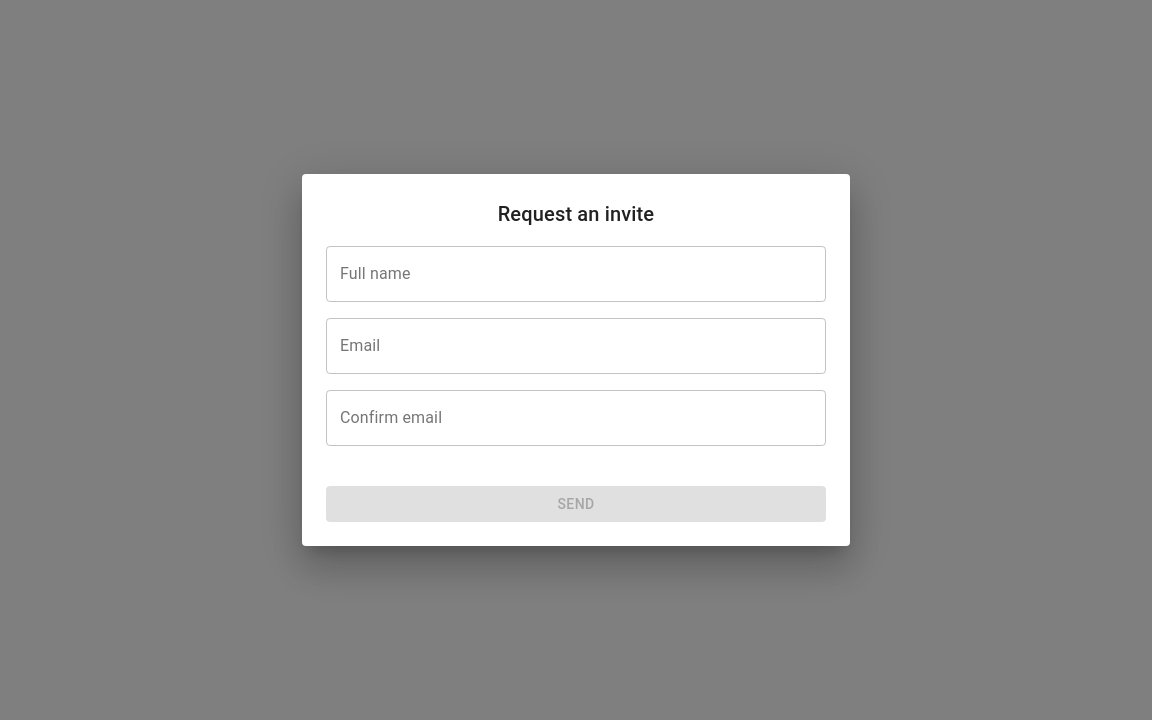
Scenario: Validates form inputs
The width and height of the screenshot is (1152, 720).
In the field labelled "Full name": (576, 274) x1=326 y1=246 x2=826 y2=302, type "a"
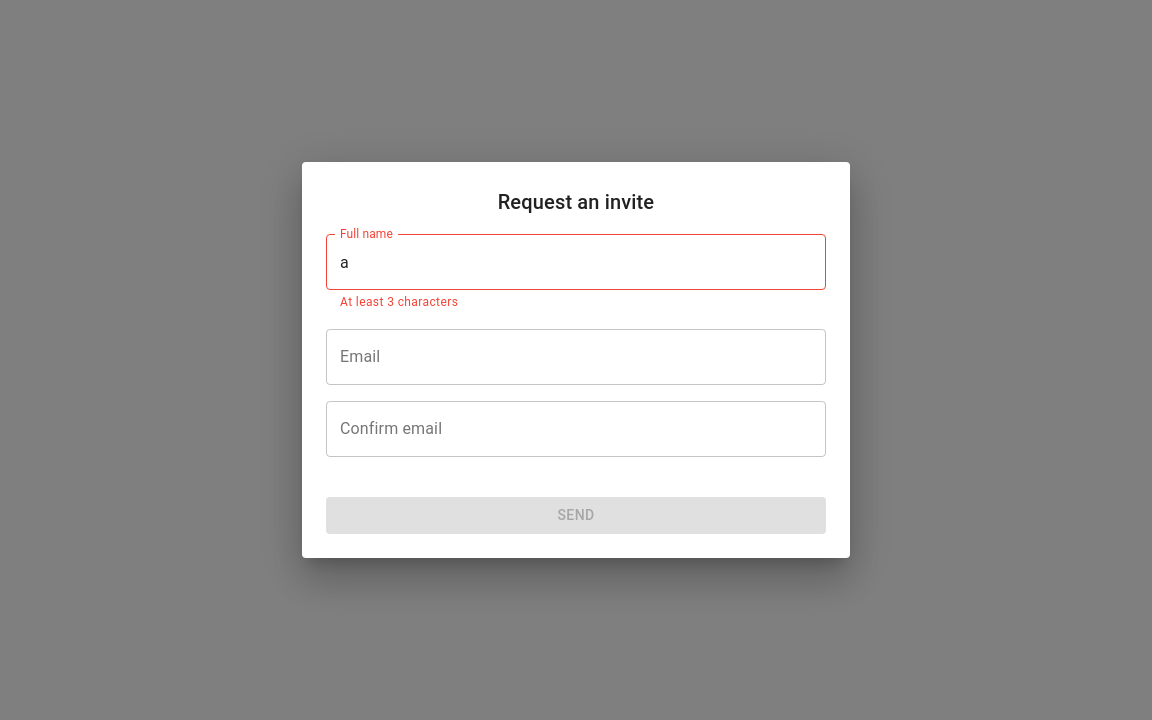
Now the element with test id "full-name-input" shows "At least 3 characters", box x1=340 y1=295 x2=458 y2=309
Replace the text in the field labelled "Full name" with "aaa": (576, 262) x1=326 y1=234 x2=826 y2=290
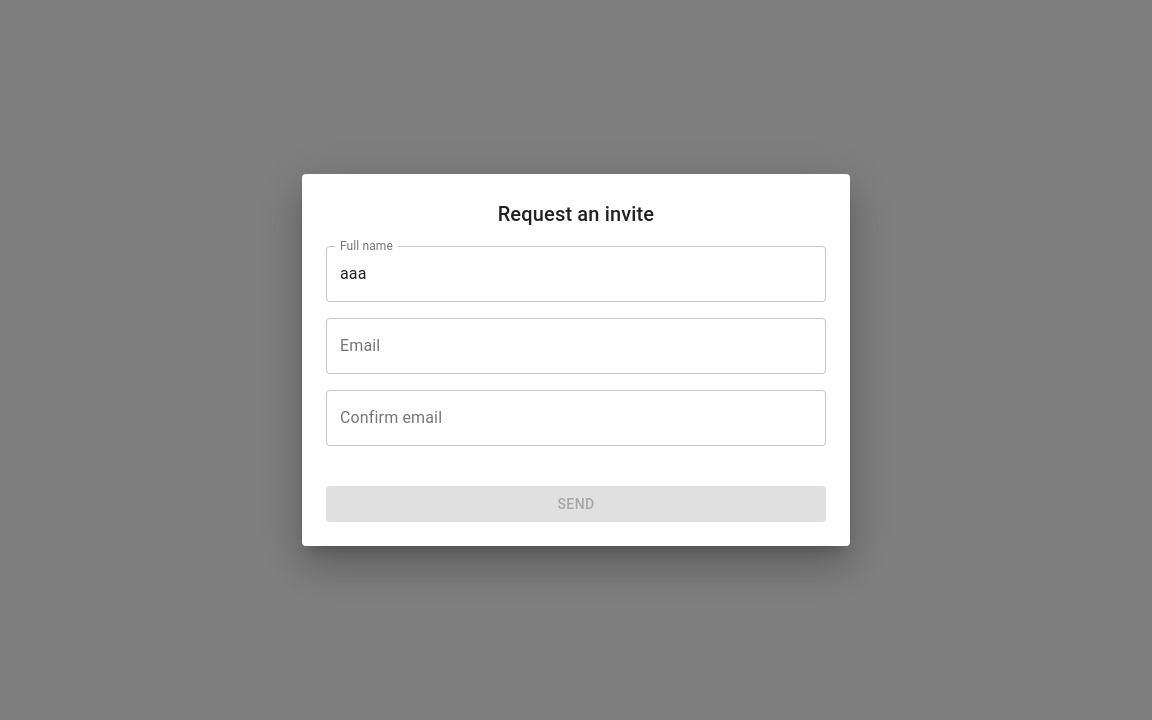
Now the element with test id "full-name-input" no longer shows "At least 3 characters", box x1=326 y1=246 x2=826 y2=302
In the field labelled "Email": (576, 346) x1=326 y1=318 x2=826 y2=374, type "test"
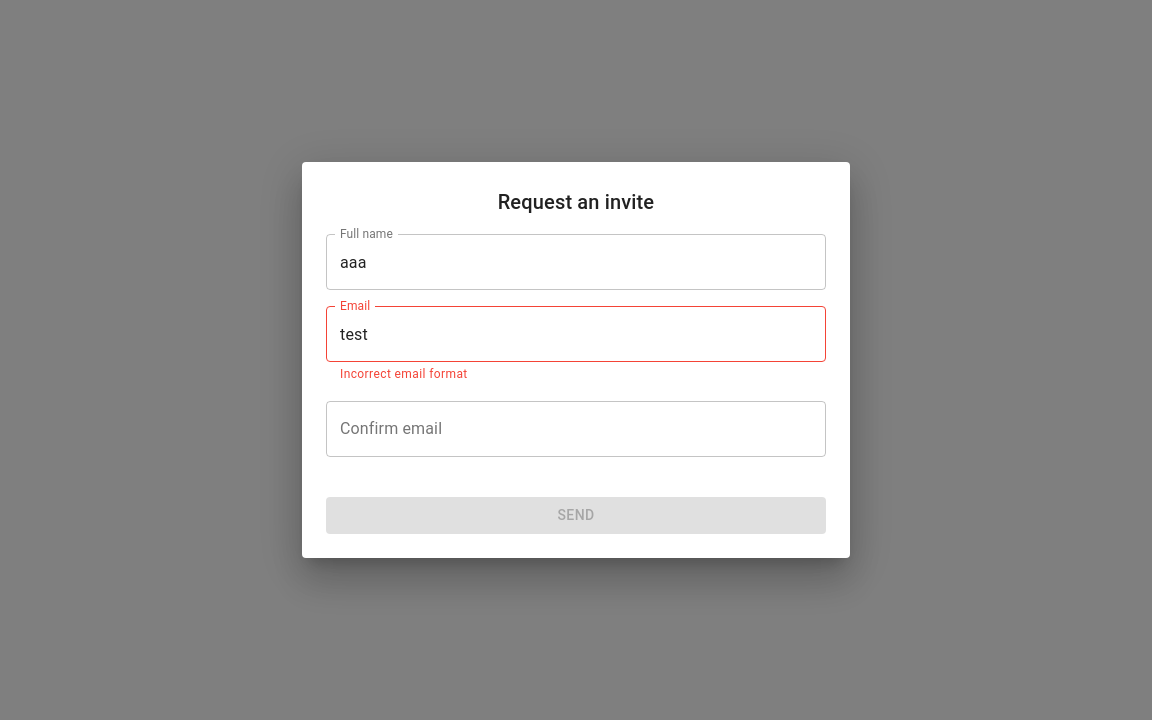
Now the element with test id "email-input" shows "Incorrect email format", box x1=340 y1=367 x2=468 y2=381
Replace the text in the field labelled "Email" with "test@airwallex.com": (576, 334) x1=326 y1=306 x2=826 y2=362
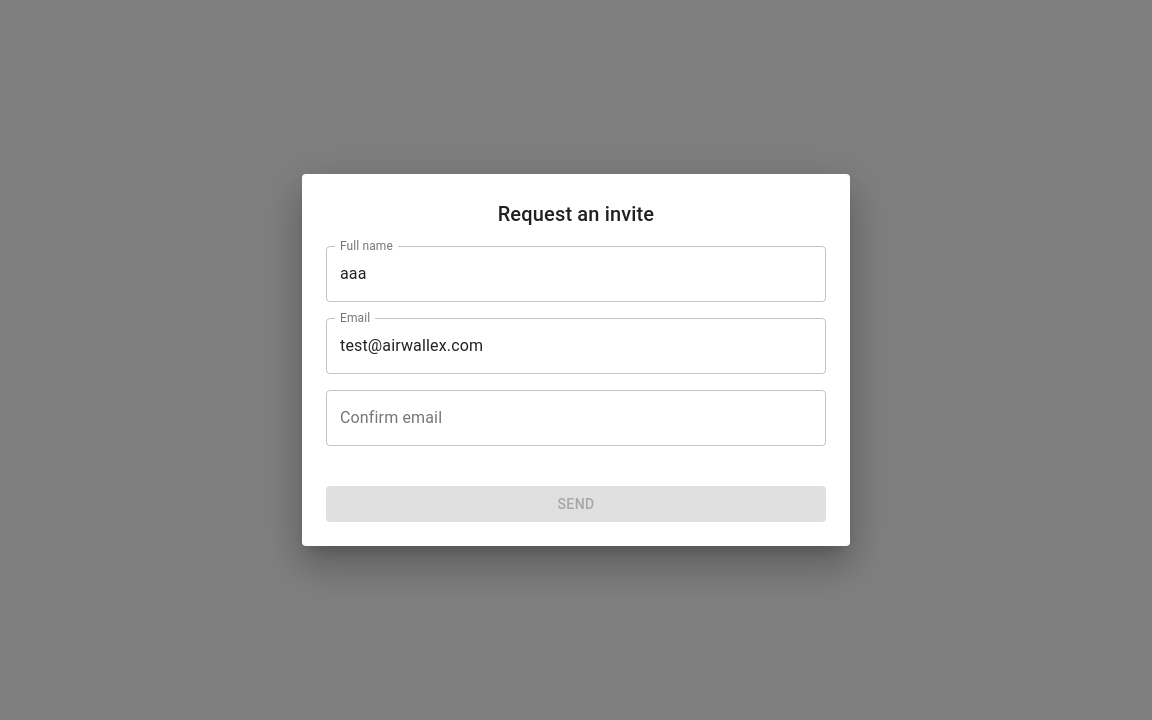
Now the element with test id "email-input" no longer shows "Incorrect email format", box x1=326 y1=318 x2=826 y2=374
In the field labelled "Confirm email": (576, 418) x1=326 y1=390 x2=826 y2=446, type "test"
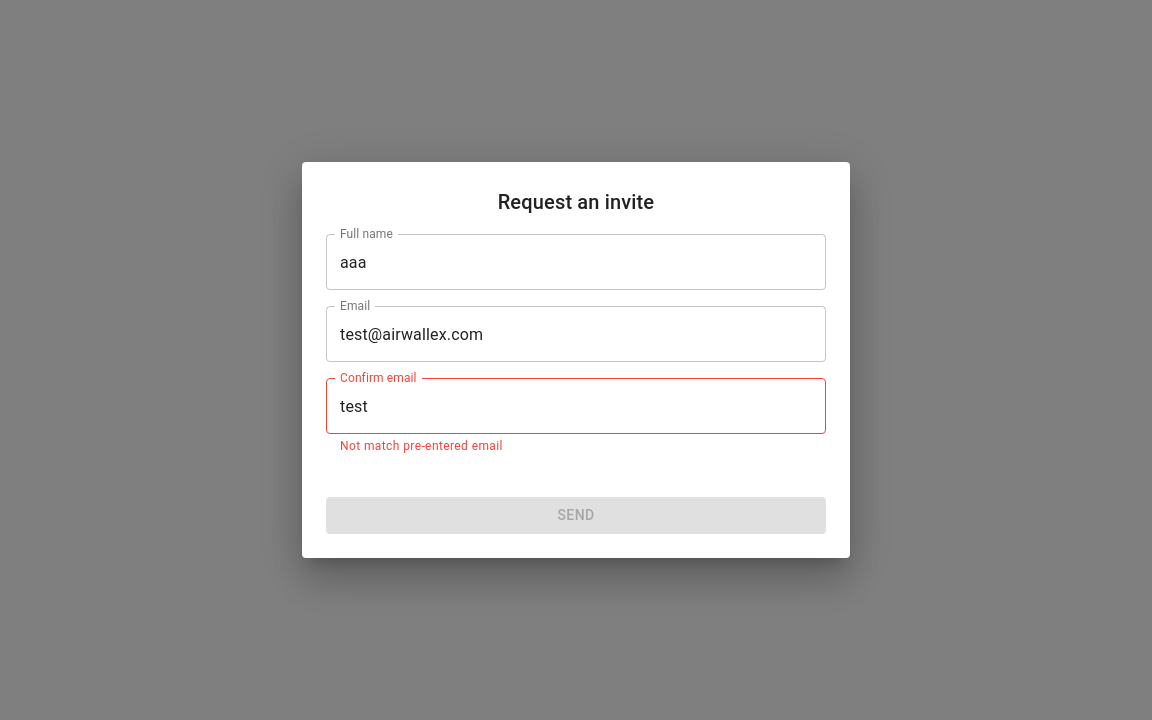
Now the element with test id "confirm-email-input" shows "Not match pre-entered email", box x1=340 y1=439 x2=503 y2=453
Replace the text in the field labelled "Confirm email" with "test@airwallex.com": (576, 406) x1=326 y1=378 x2=826 y2=434
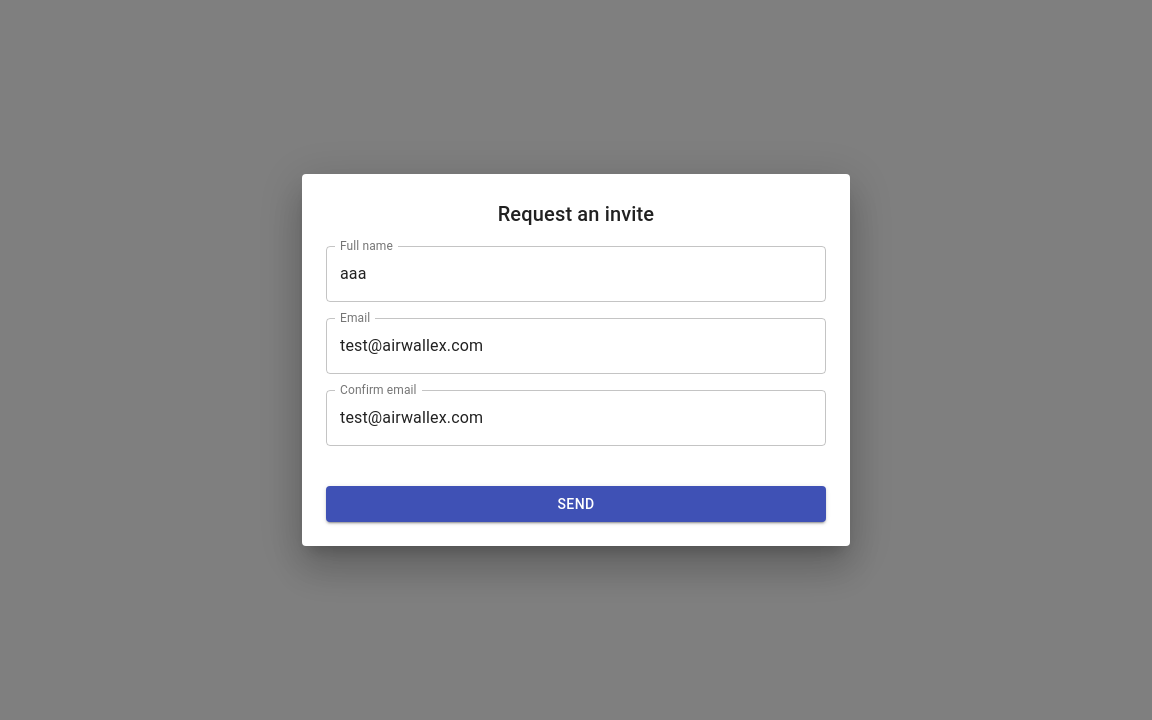
Now the element with test id "confirm-email-input" no longer shows "Not match pre-entered email", box x1=326 y1=390 x2=826 y2=446
